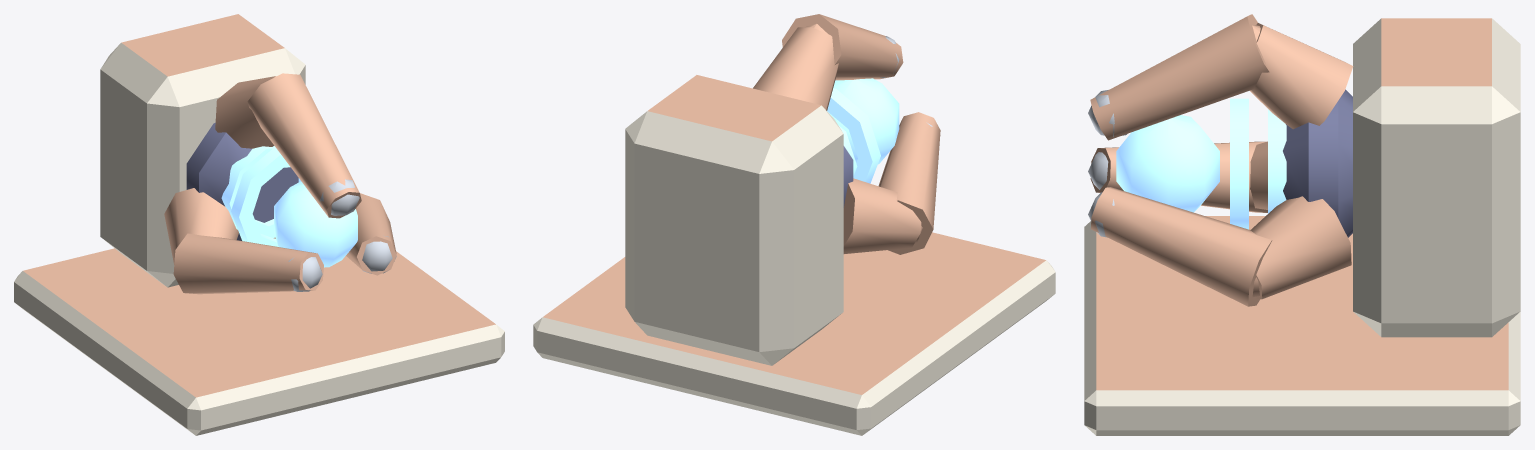
The model's file is R4X_DirectionalEMP_LOD1.fbx.
3 renders of one model, left to right at view 1: azimuth 30°, elevation 25°; view 2: azimuth 150°, elevation 25°; view 3: azimuth 270°, elevation 25°, orthographic. The views are drawn at different scales.
Visible parts, largest first — view 1: R4X_DirectionalEMP_LOD1; view 2: R4X_DirectionalEMP_LOD1; view 3: R4X_DirectionalEMP_LOD1.
Part boxes in pixels (x1,y1,x2,y2): R4X_DirectionalEMP_LOD1: [14, 14, 504, 435]; R4X_DirectionalEMP_LOD1: [533, 14, 1055, 435]; R4X_DirectionalEMP_LOD1: [1084, 14, 1520, 435].
Bounding box in the file's own units: 0.52 × 0.4373 × 0.52.
